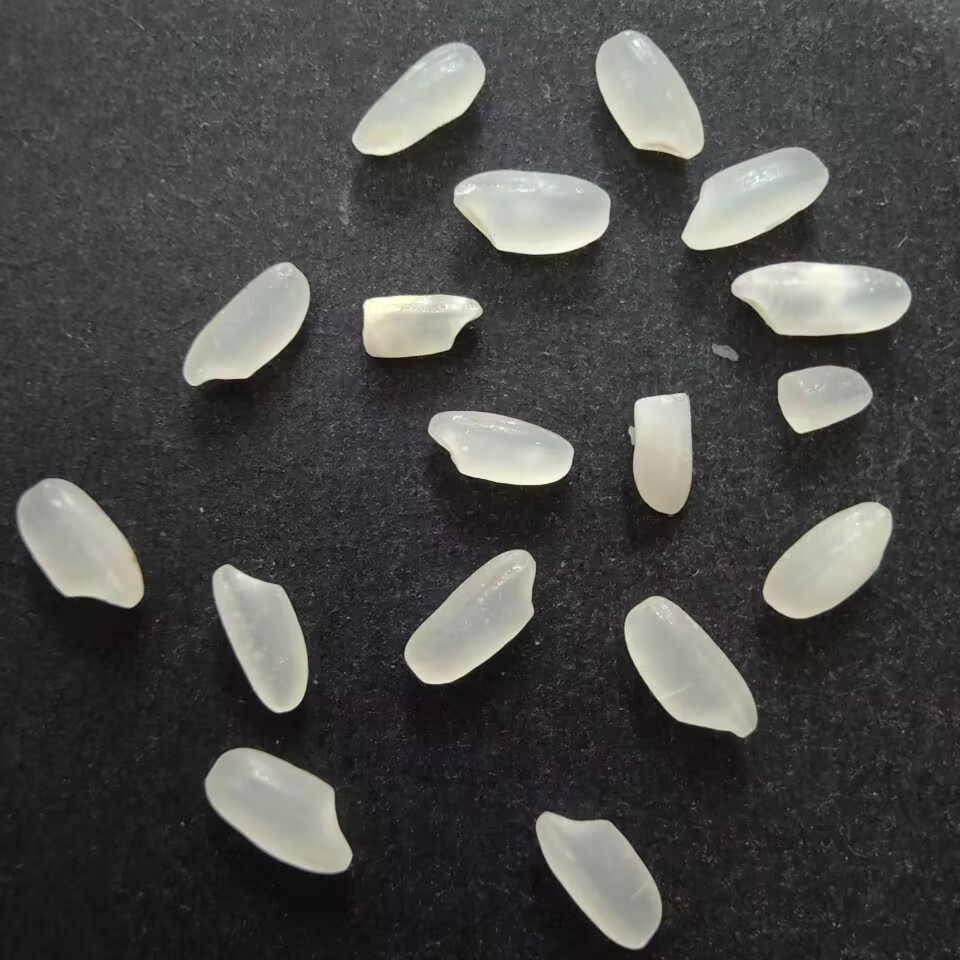broken: (355, 290, 486, 364), (625, 391, 700, 515), (771, 364, 877, 438)
rice: (200, 744, 358, 882), (623, 595, 761, 747), (531, 808, 668, 954), (401, 547, 539, 690), (13, 474, 149, 612), (177, 259, 314, 395), (345, 39, 490, 162), (679, 143, 834, 257), (759, 498, 897, 620), (208, 559, 314, 716), (722, 259, 918, 340), (591, 30, 706, 167), (447, 166, 617, 255), (423, 407, 579, 491)
